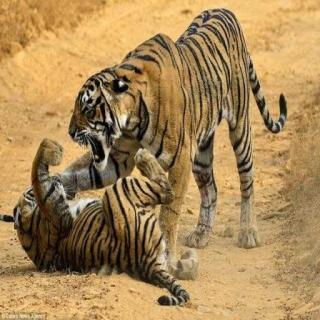Tiger: (61, 5, 284, 250), (9, 139, 194, 311)
